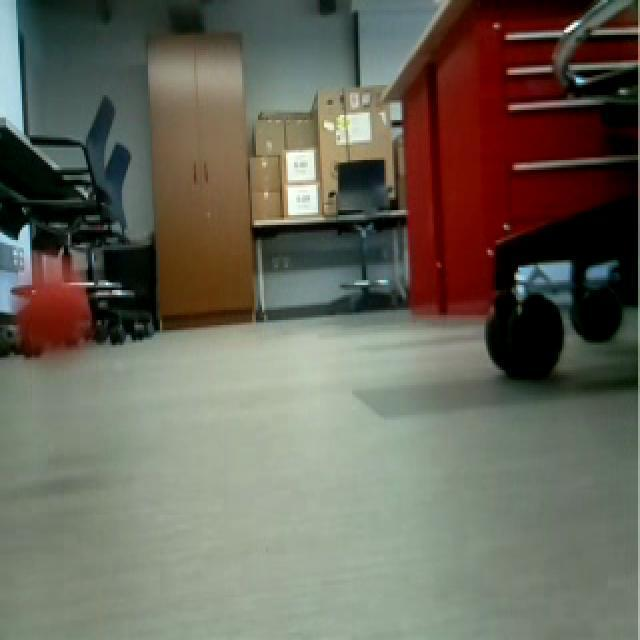ping-pong-ball: (22, 260, 88, 364)
